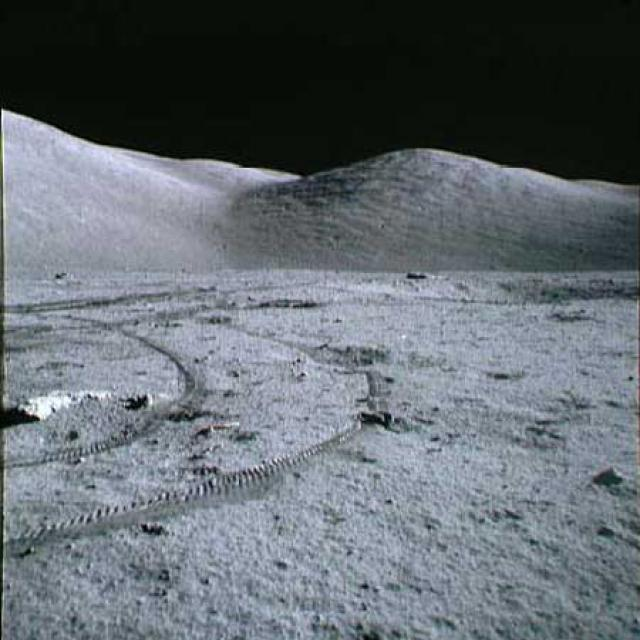crater: (342, 264, 639, 314)
rock: (10, 378, 119, 420)
